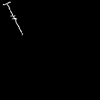treble_crochet: (3, 4, 20, 30)
